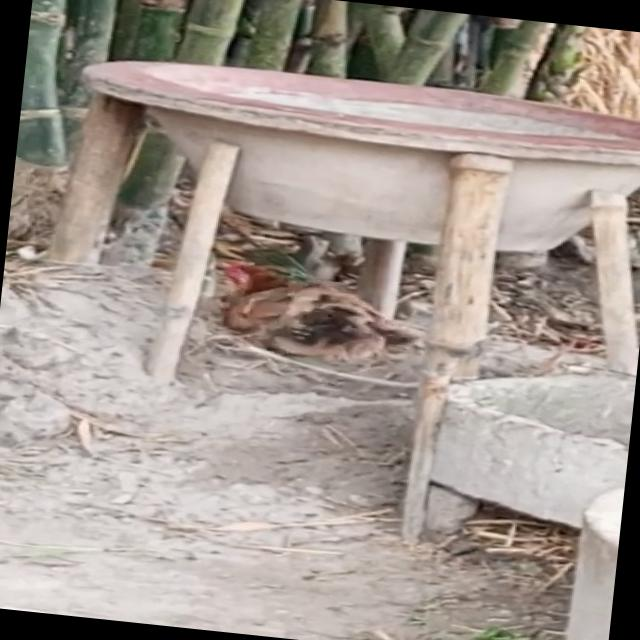stand bath: (170, 239, 422, 378)
